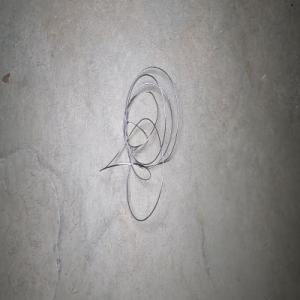Wire: (99, 65, 178, 220)
